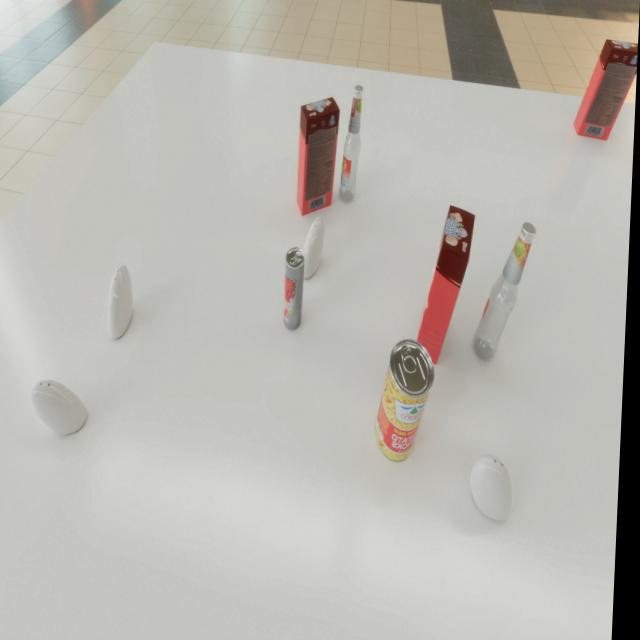Bottle: (476, 222, 539, 361), (340, 85, 365, 203)
HelloPanda: (417, 205, 477, 365), (574, 38, 639, 140), (298, 97, 341, 216)
Potato_sticks: (378, 339, 439, 462)
Rita_zero_sugar: (285, 247, 308, 331)
Salt: (33, 379, 92, 435), (474, 453, 520, 521), (110, 264, 137, 338), (302, 216, 328, 278)
